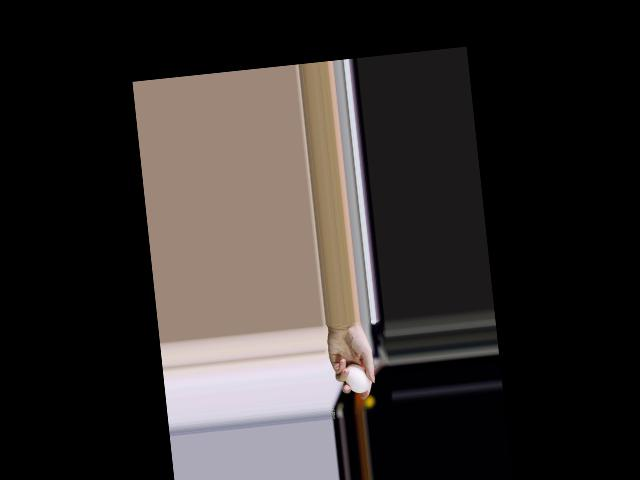egg: (343, 363, 370, 395)
